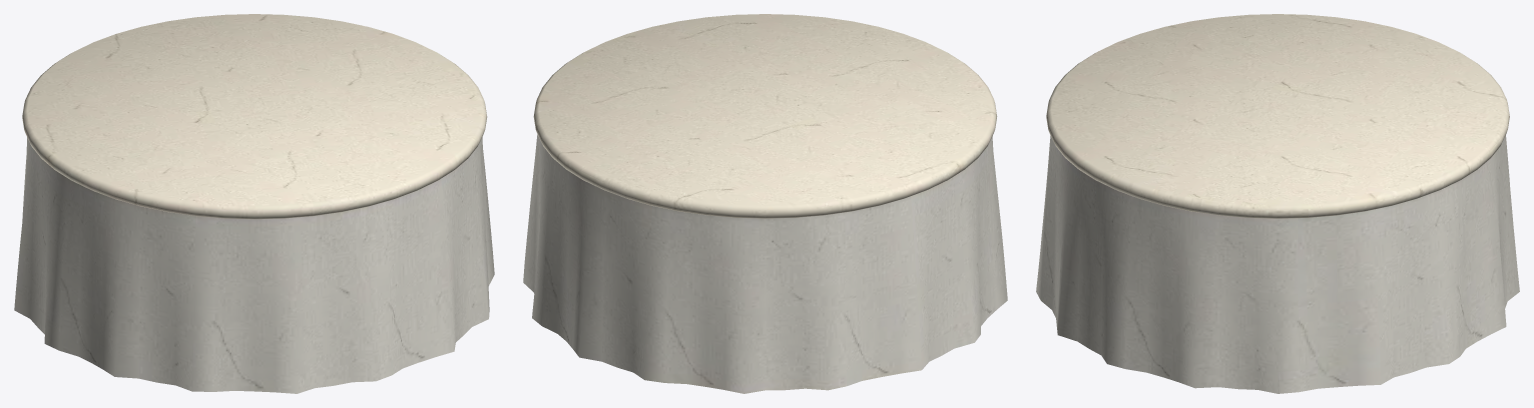
File: round_table.glb
The picture shows the model from 3 angles, left to right: view 1: azimuth 30°, elevation 25°; view 2: azimuth 150°, elevation 25°; view 3: azimuth 270°, elevation 25°; orthographic projection.
Visible parts, largest first — view 1: round_table; view 2: round_table; view 3: round_table.
Boxes of the visible parts, x1=… form: round_table: x1=14, y1=14, x2=494, y2=393; round_table: x1=523, y1=14, x2=1007, y2=393; round_table: x1=1036, y1=14, x2=1519, y2=393.
Bounding box in the file's own units: 1.92 × 0.804 × 1.92.
1 material, 1 textured.
